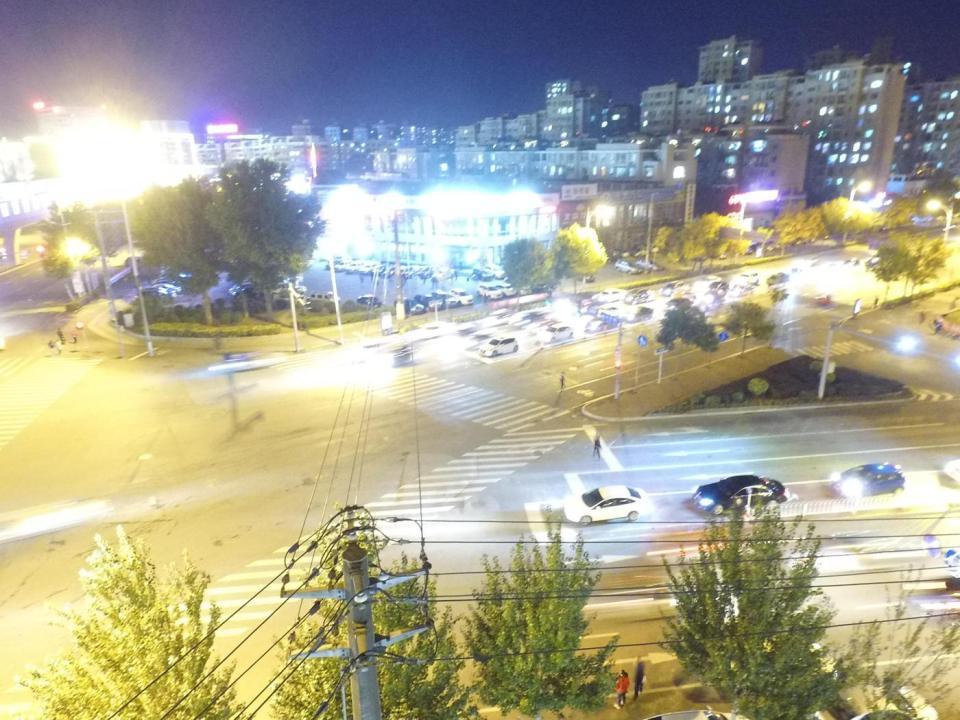car: (785, 682, 940, 720), (693, 474, 790, 516), (564, 485, 652, 525), (832, 463, 905, 499), (478, 336, 518, 356), (536, 324, 574, 343), (268, 282, 307, 298), (135, 289, 176, 303), (586, 317, 618, 333), (394, 297, 424, 314), (431, 290, 460, 307), (592, 288, 627, 302), (658, 281, 690, 296), (413, 294, 443, 310), (624, 288, 653, 304), (625, 306, 653, 322), (477, 283, 503, 300), (701, 288, 725, 306), (147, 283, 180, 296), (662, 297, 692, 311), (450, 289, 474, 306), (230, 283, 260, 296), (728, 284, 754, 298), (615, 261, 641, 275), (510, 280, 533, 295), (483, 264, 505, 278), (573, 269, 596, 282), (636, 260, 663, 271), (768, 272, 790, 285), (346, 259, 366, 273), (706, 281, 729, 293), (359, 260, 378, 274), (400, 265, 420, 278), (740, 270, 758, 284), (701, 275, 721, 287), (434, 267, 449, 282), (496, 284, 516, 295), (419, 266, 437, 278), (333, 260, 351, 271), (816, 292, 831, 305), (631, 248, 649, 257), (645, 242, 661, 252)
van: (310, 290, 340, 307), (356, 294, 376, 305)
